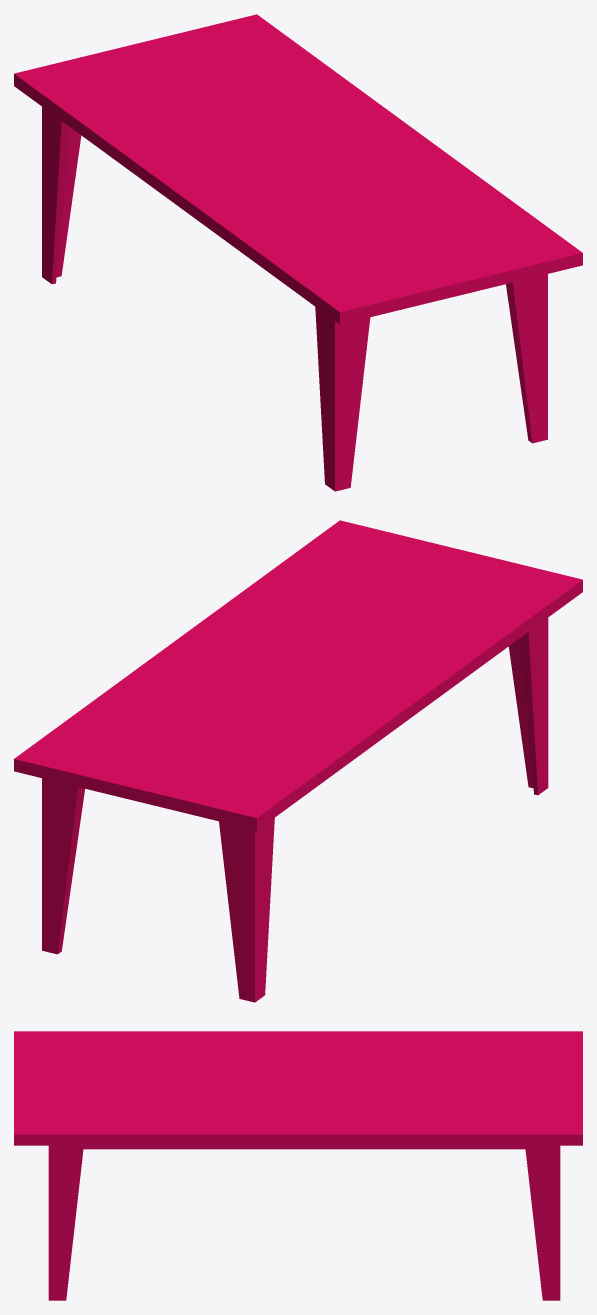
The model's file is Coffee_Table_02_Lod0.fbx.
The picture shows the model from 3 angles, top to bottom: view 1: azimuth 30°, elevation 25°; view 2: azimuth 150°, elevation 25°; view 3: azimuth 270°, elevation 25°; orthographic projection. The views are drawn at different scales.
Visible parts, largest first — view 1: Coffee_Table_02_Lod0; view 2: Coffee_Table_02_Lod0; view 3: Coffee_Table_02_Lod0.
Boxes of the visible parts, box(x1,y1,x2,y2) form: Coffee_Table_02_Lod0: box(14, 14, 582, 491); Coffee_Table_02_Lod0: box(14, 520, 582, 1002); Coffee_Table_02_Lod0: box(14, 1031, 582, 1300).
Size of the model in its own units: 58.01 by 45.06 by 135.
